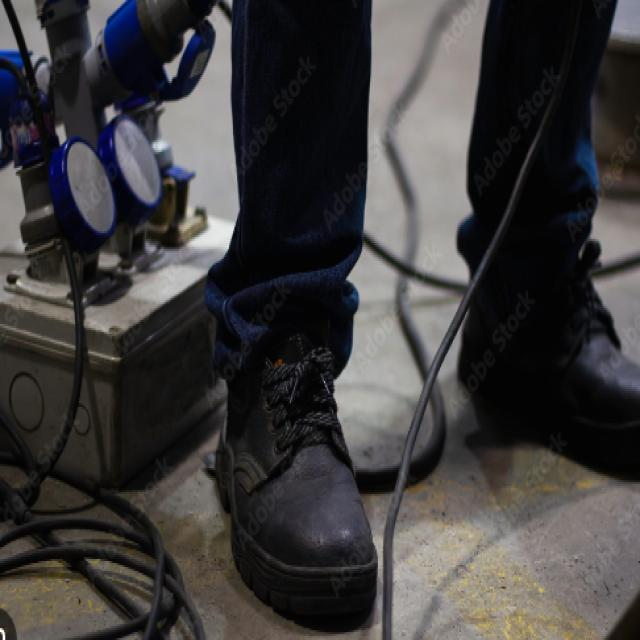boots: (212, 211, 640, 631)
